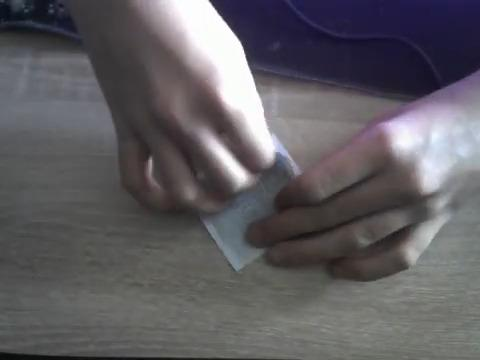20leva: (201, 145, 301, 273)
